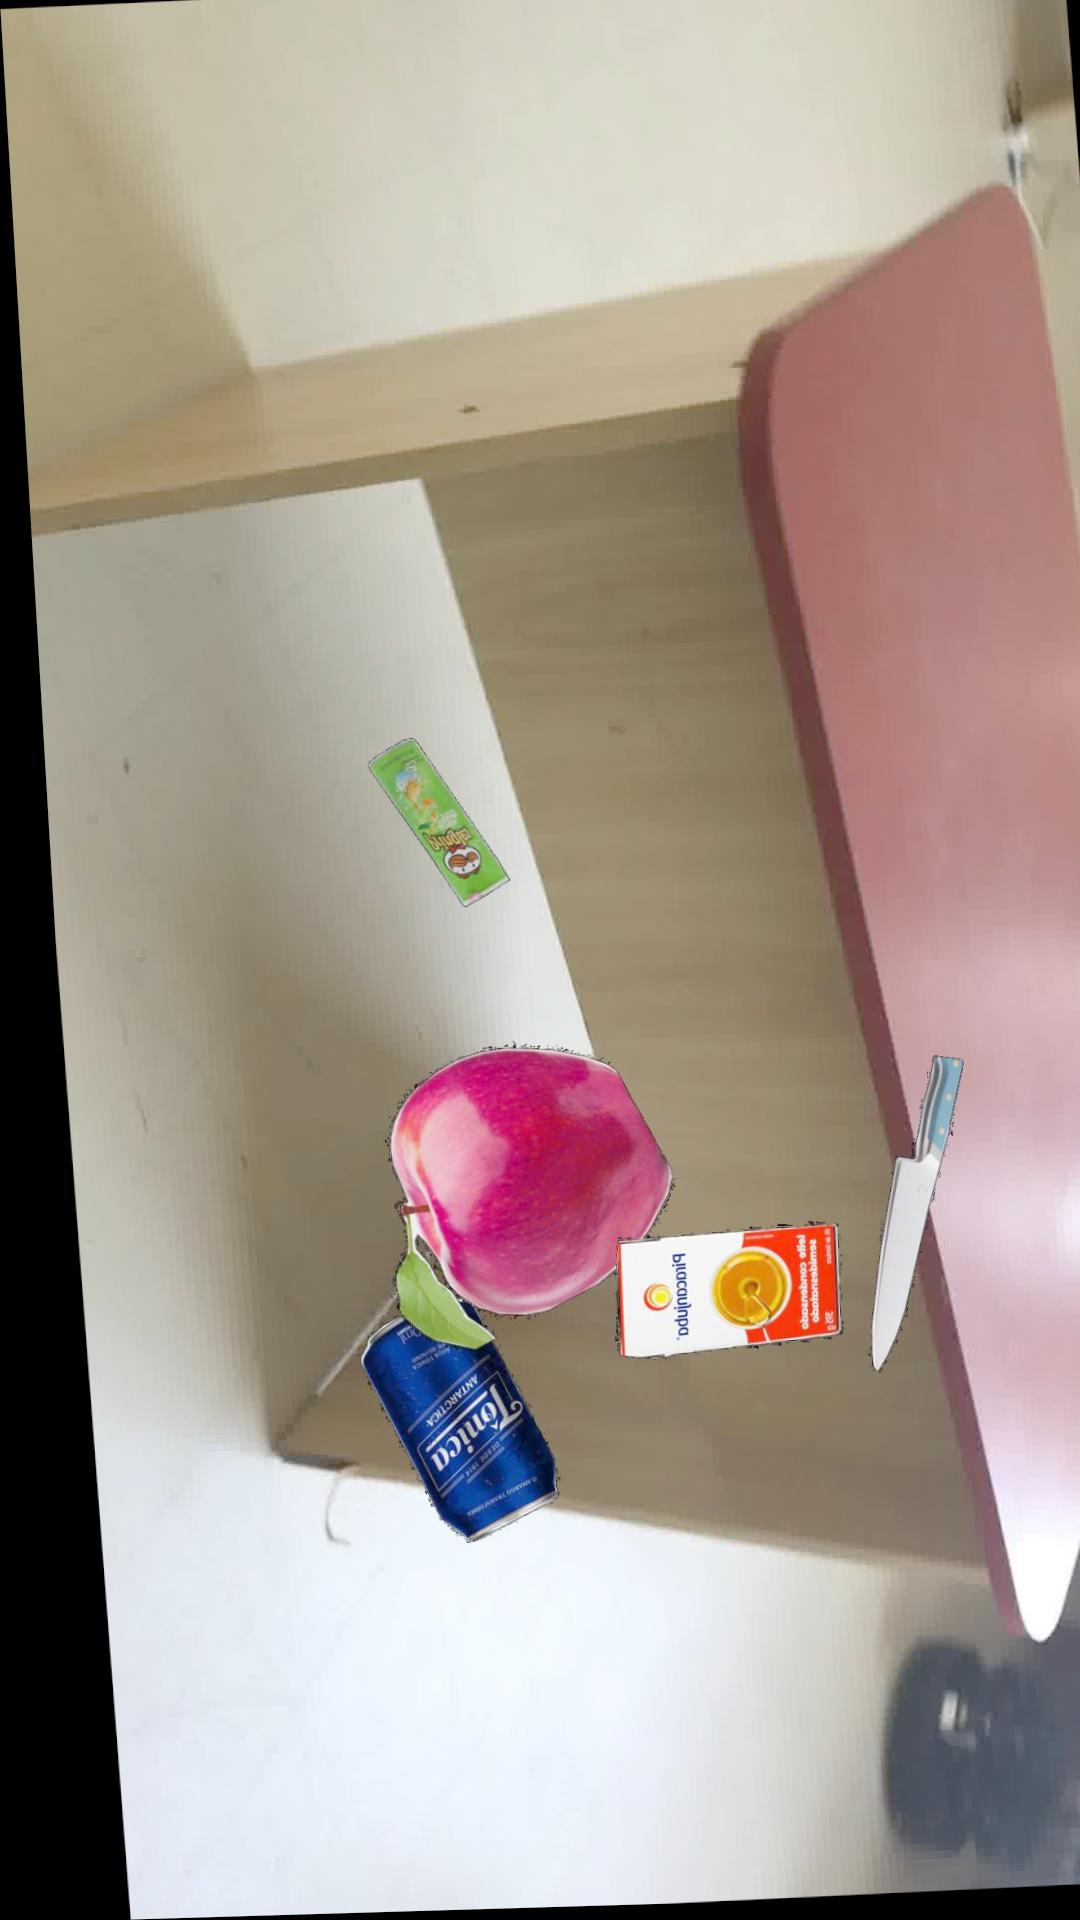apple: (373, 1047, 657, 1354)
knife: (851, 1063, 947, 1378)
pringles: (356, 742, 497, 911)
tonic: (342, 1303, 538, 1547)
